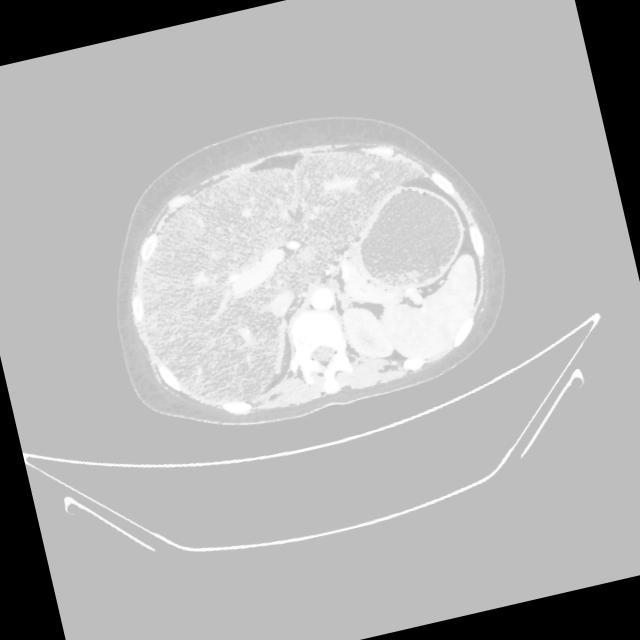NORMAL: (53, 65, 534, 458)
